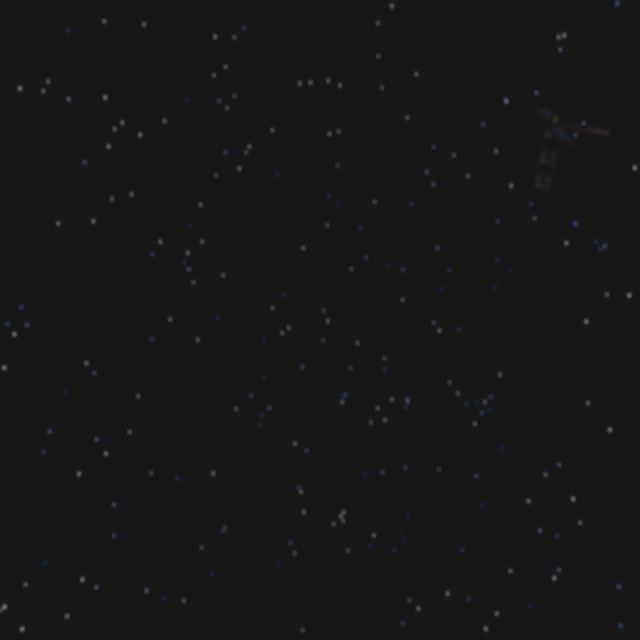medium_debris: (509, 85, 613, 203)
